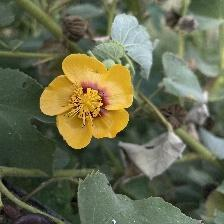indian mallow: (40, 53, 137, 152)
